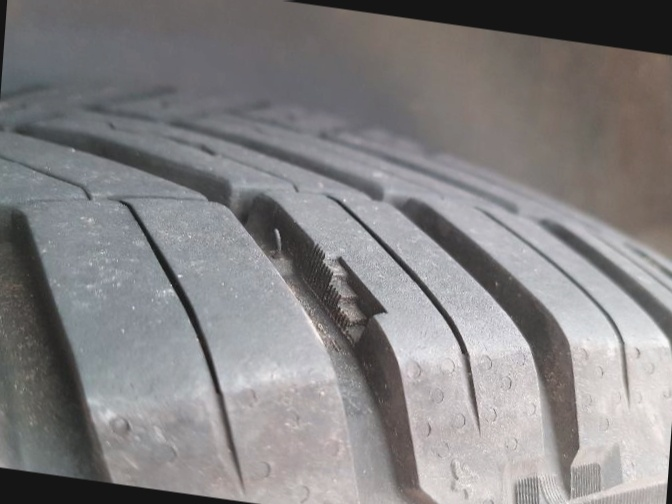temoin:90: (289, 234, 400, 359)
